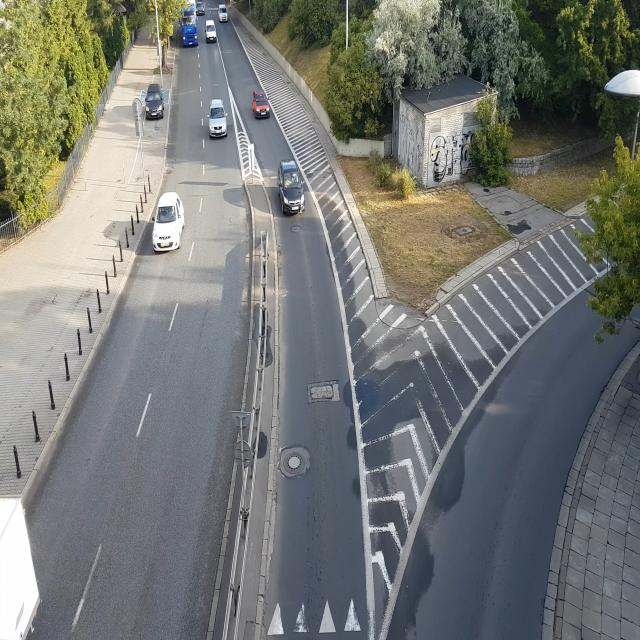car: (151, 190, 186, 254), (275, 154, 308, 217), (208, 95, 229, 143), (144, 80, 165, 123), (252, 82, 271, 120), (204, 19, 217, 45), (217, 2, 230, 24), (195, 0, 205, 17)
truck: (182, 2, 200, 47)
